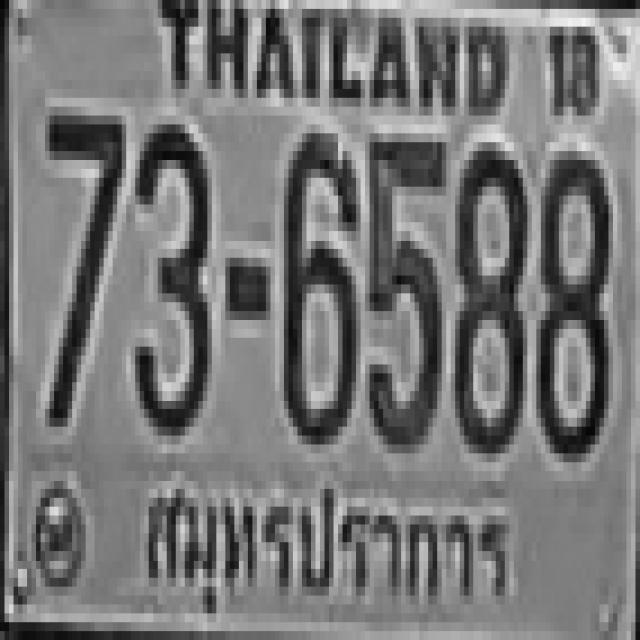3: (131, 116, 207, 427)
5: (365, 129, 442, 440)
6: (279, 124, 356, 436)
7: (45, 106, 122, 418)
8: (534, 142, 606, 454), (451, 143, 523, 444)
SamutPrakan: (137, 459, 516, 627)
